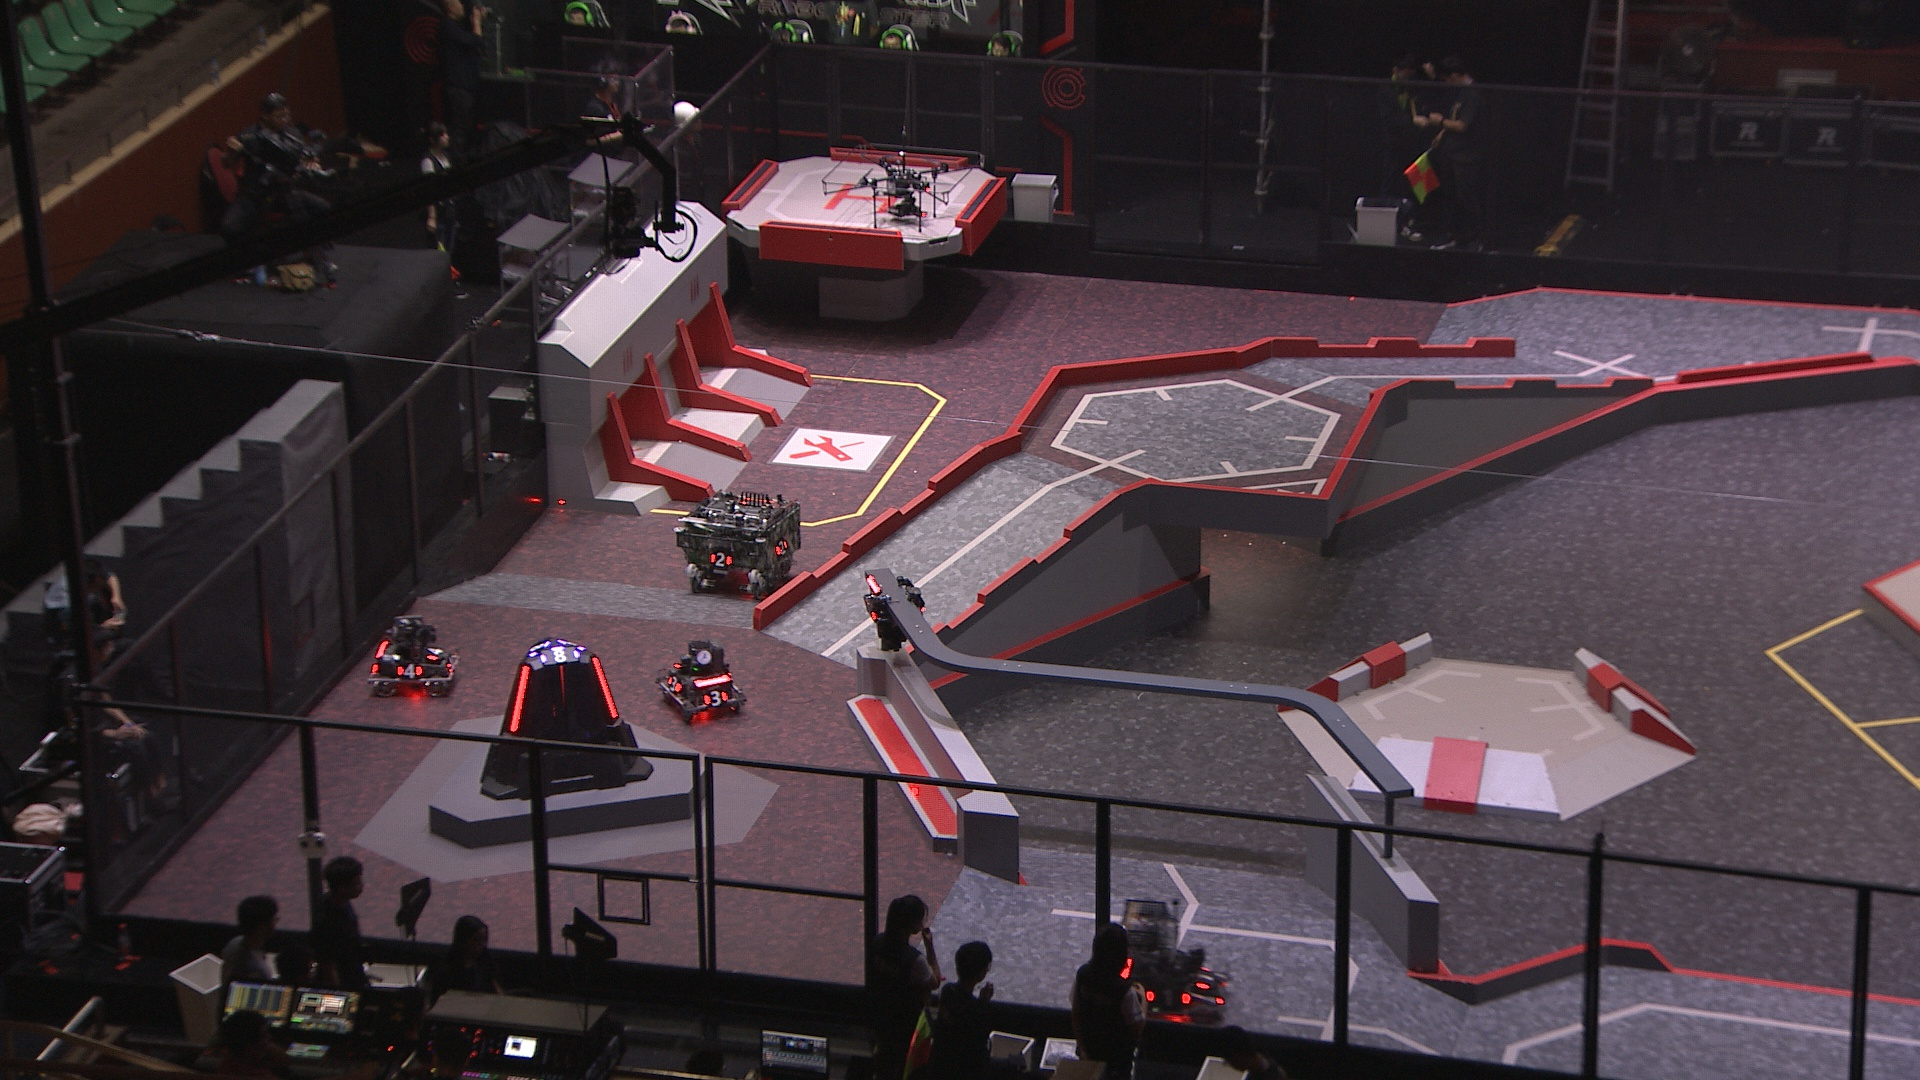armor: (591, 655, 618, 723), (508, 661, 531, 736), (396, 662, 422, 680), (704, 690, 728, 709), (708, 551, 733, 570), (1195, 967, 1215, 988), (862, 595, 878, 621), (666, 674, 680, 698), (429, 644, 443, 665), (774, 538, 793, 553)
base: (476, 636, 650, 800)
car: (1109, 894, 1237, 1025), (673, 488, 807, 604), (363, 615, 462, 698), (655, 637, 746, 727)
ignore: (539, 646, 580, 665)
watcher: (858, 571, 924, 654)
